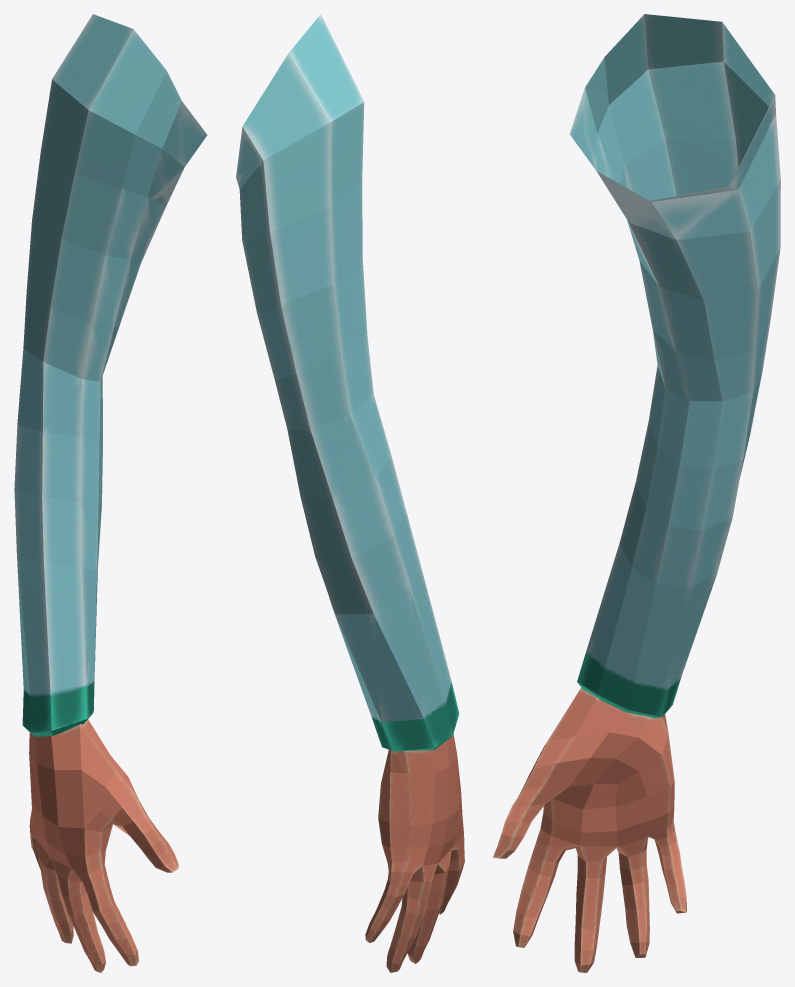
The model's file is brazoDer.obj.
3 views of the same model, side by side, from view 1: azimuth 30°, elevation 25°; view 2: azimuth 150°, elevation 25°; view 3: azimuth 270°, elevation 25° (orthographic). The views are drawn at different scales.
Visible parts, largest first — view 1: brazoDer; view 2: brazoDer; view 3: brazoDer.
Boxes of the visible parts, x1,y1,x2,y2 form: brazoDer: (14, 14, 207, 972); brazoDer: (236, 14, 464, 972); brazoDer: (493, 14, 780, 972).
Bounding box in the file's own units: 0.1283 × 0.7141 × 0.1876.
2 materials, 2 textured.
